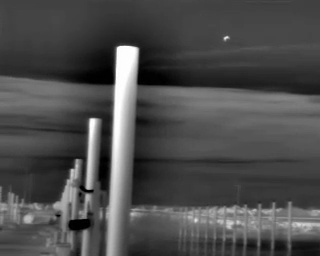BIRD: (221, 33, 232, 44)
